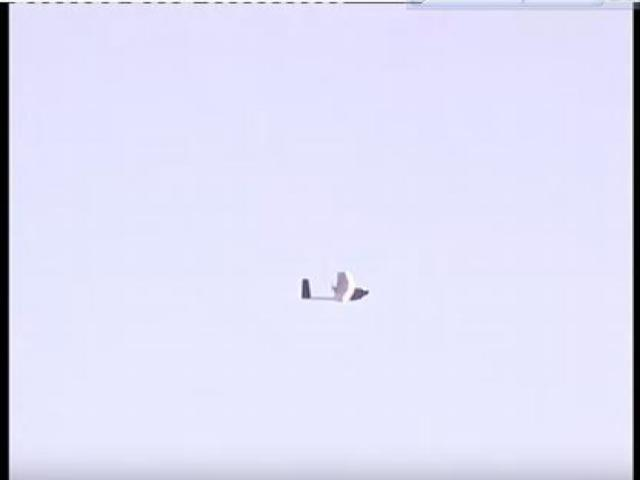uav: (296, 267, 376, 309)
